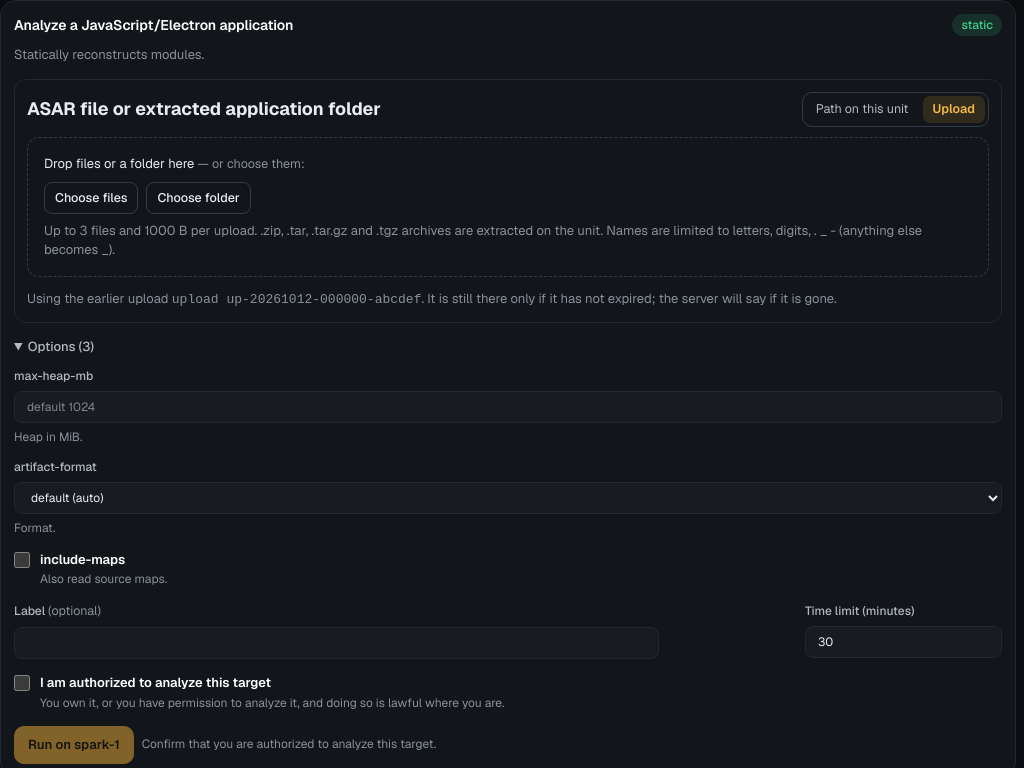
Scenario: RunForm › Run again with an upload target and no relPath keeps the target too
Click the 2nd checkbox at (22, 683), box [14,675,30,691]
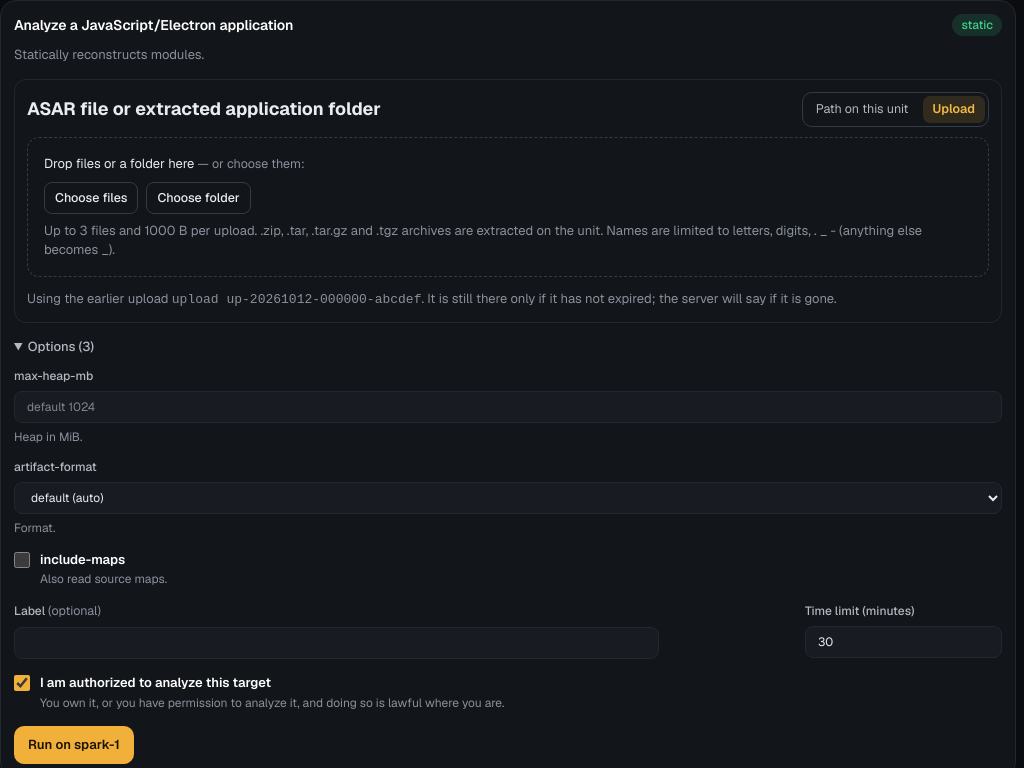
Expected: the submit button is enabled, [14,726,134,764]
